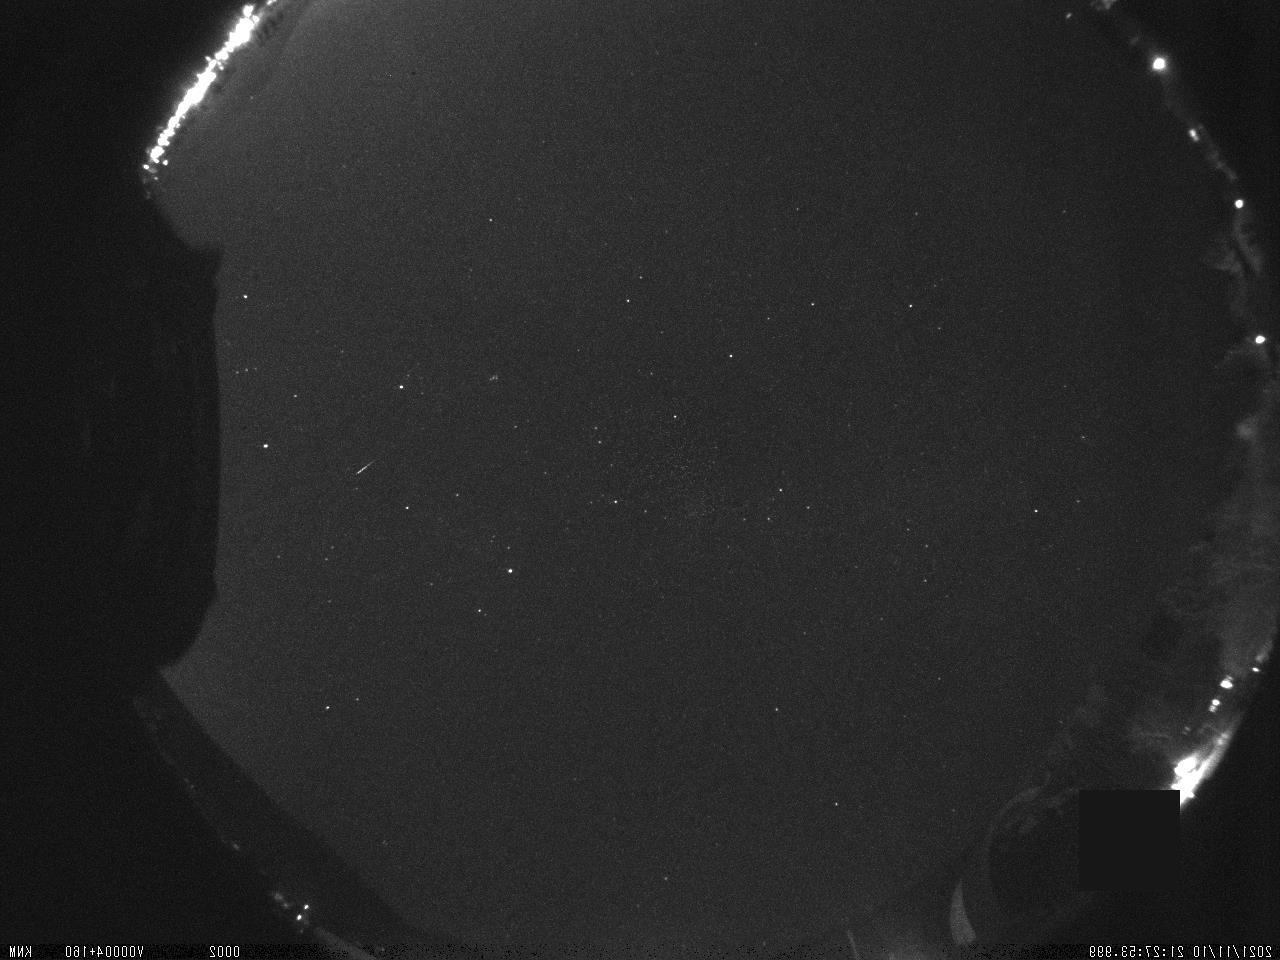meteor: (350, 449, 387, 482)
